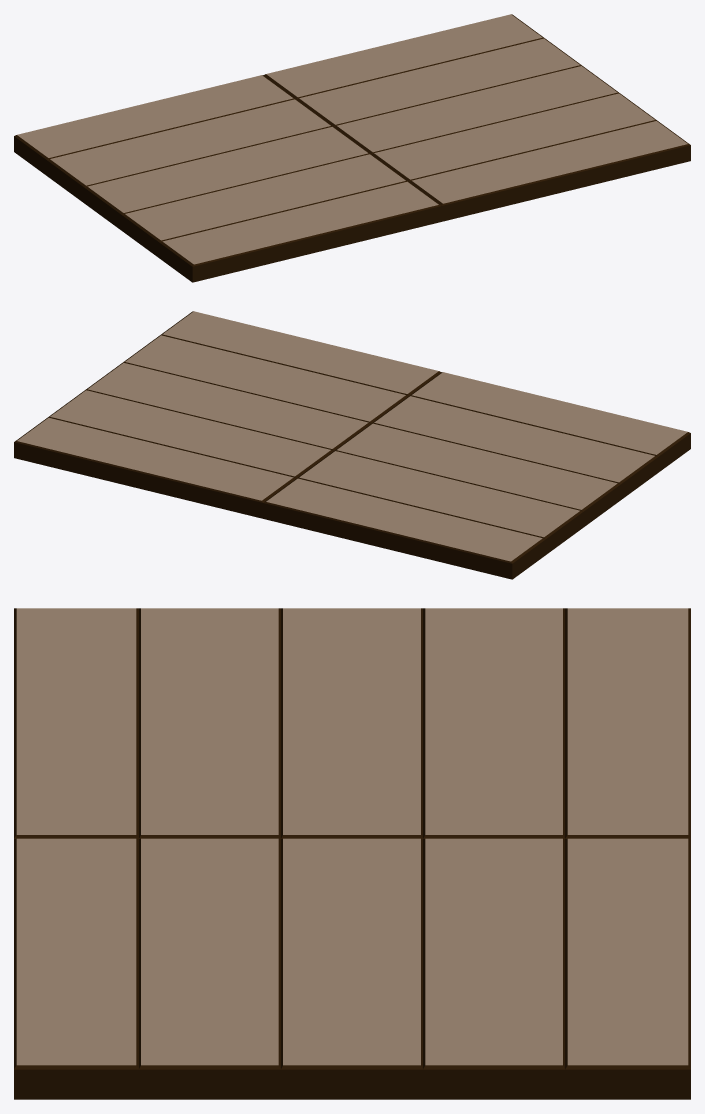
File: suelo6.fbx
The picture shows the model from 3 angles, top to bottom: view 1: azimuth 30°, elevation 25°; view 2: azimuth 150°, elevation 25°; view 3: azimuth 270°, elevation 25°; orthographic projection. The views are drawn at different scales.
Visible parts, largest first — view 1: Cube.005; view 2: Cube.005; view 3: Cube.005.
Boxes of the visible parts, x1,y1,x2,y2 form: Cube.005: [14, 14, 690, 282]; Cube.005: [14, 311, 690, 579]; Cube.005: [14, 608, 690, 1099].
Bounding box in the file's own units: 9788 × 321 × 6073.
